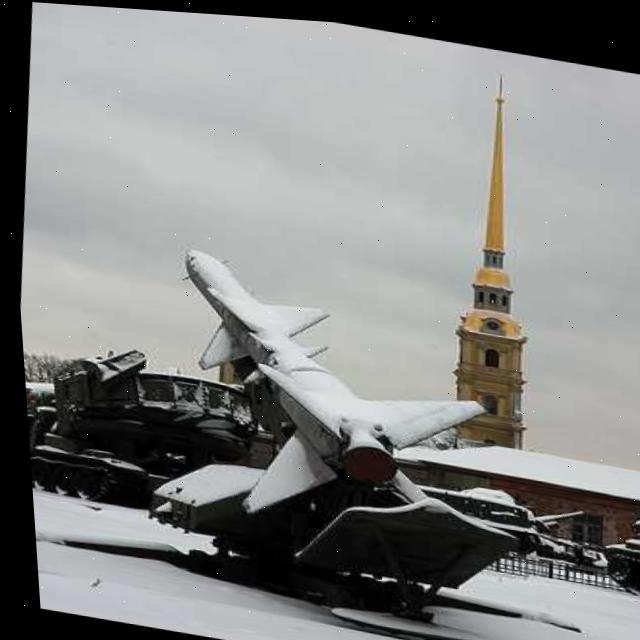missile: (159, 241, 515, 535)
